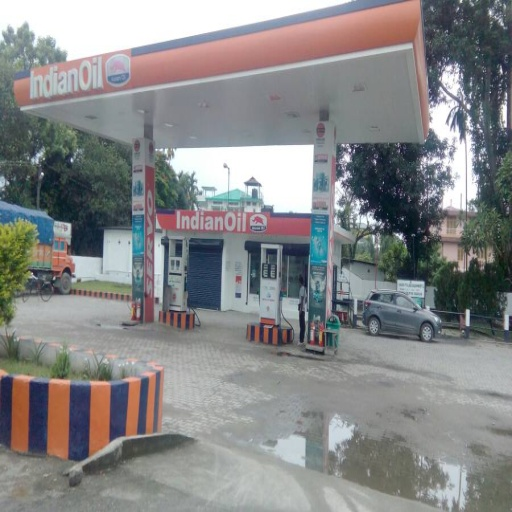roof: (1, 1, 426, 141)
